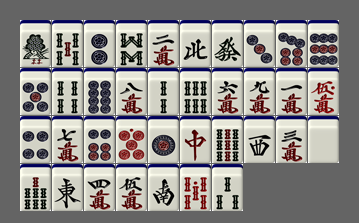0m: (308, 68, 339, 115)
0p: (116, 116, 147, 163)
0s: (180, 164, 211, 211)
1m: (276, 68, 307, 115)
1p: (148, 116, 179, 163)
1s: (20, 20, 51, 67)
1z: (52, 164, 83, 211)
2m: (148, 20, 179, 67)
2p: (84, 20, 115, 67)
2s: (148, 68, 179, 115)
2z: (148, 164, 179, 211)
3m: (276, 116, 307, 163)
3p: (244, 20, 275, 67)
3s: (212, 164, 243, 211)
3z: (244, 116, 275, 163)
4m: (84, 164, 115, 211)
4p: (20, 116, 51, 163)
4s: (52, 68, 83, 115)
4z: (180, 20, 211, 67)
5m: (116, 164, 147, 211)
5p: (20, 68, 51, 115)
5s: (52, 20, 83, 67)
5z: (308, 116, 339, 163)
6m: (212, 68, 243, 115)
6p: (84, 116, 115, 163)
6s: (180, 68, 211, 115)
6z: (212, 20, 243, 67)
7m: (52, 116, 83, 163)
7p: (276, 20, 307, 67)
7s: (20, 164, 51, 211)
7z: (180, 116, 211, 163)
8m: (116, 68, 147, 115)
8p: (84, 68, 115, 115)
8s: (116, 20, 147, 67)
9m: (244, 68, 275, 115)
9p: (308, 20, 339, 67)
9s: (212, 116, 243, 163)
